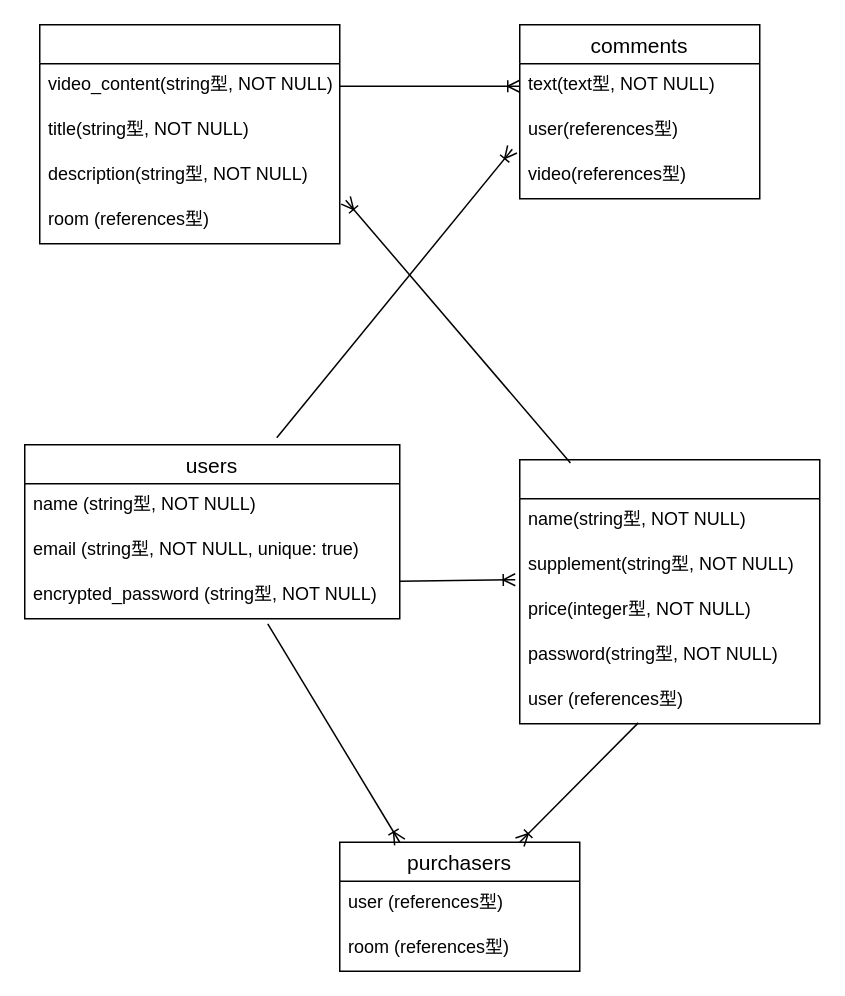
Some shapes in this 845 by 996 pixel diagram are drawn without their labels. Here are the shapes that lost their labels. From the top down, the box of each, then its label:
(38, 23, 340, 244): videos
(518, 458, 820, 724): rooms
